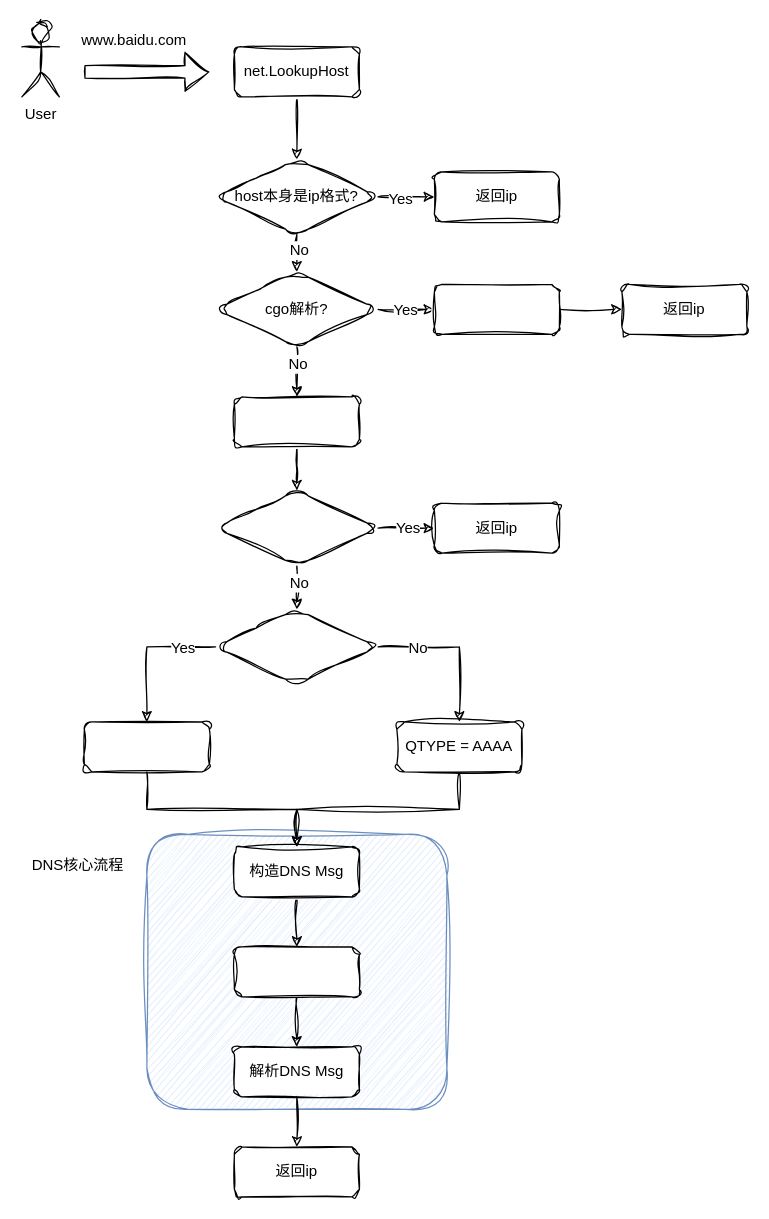
The diagram is 769 pixels wide and 1219 high, and some of its shapes have lost their labels. The shapes that lost their labels are listed below. From the top down, each one's box as (x1, y1, x2, y2) in pixels, then its label:
(433, 283, 559, 334): 进入cgo dns
(233, 396, 359, 447): 查询/etc/hosts
(214, 489, 378, 566): 命中静态dns?
(214, 608, 378, 684): 是ipv4请求?
(83, 721, 209, 772): QTYPE = A
(233, 946, 359, 997): 请求DNS Server
